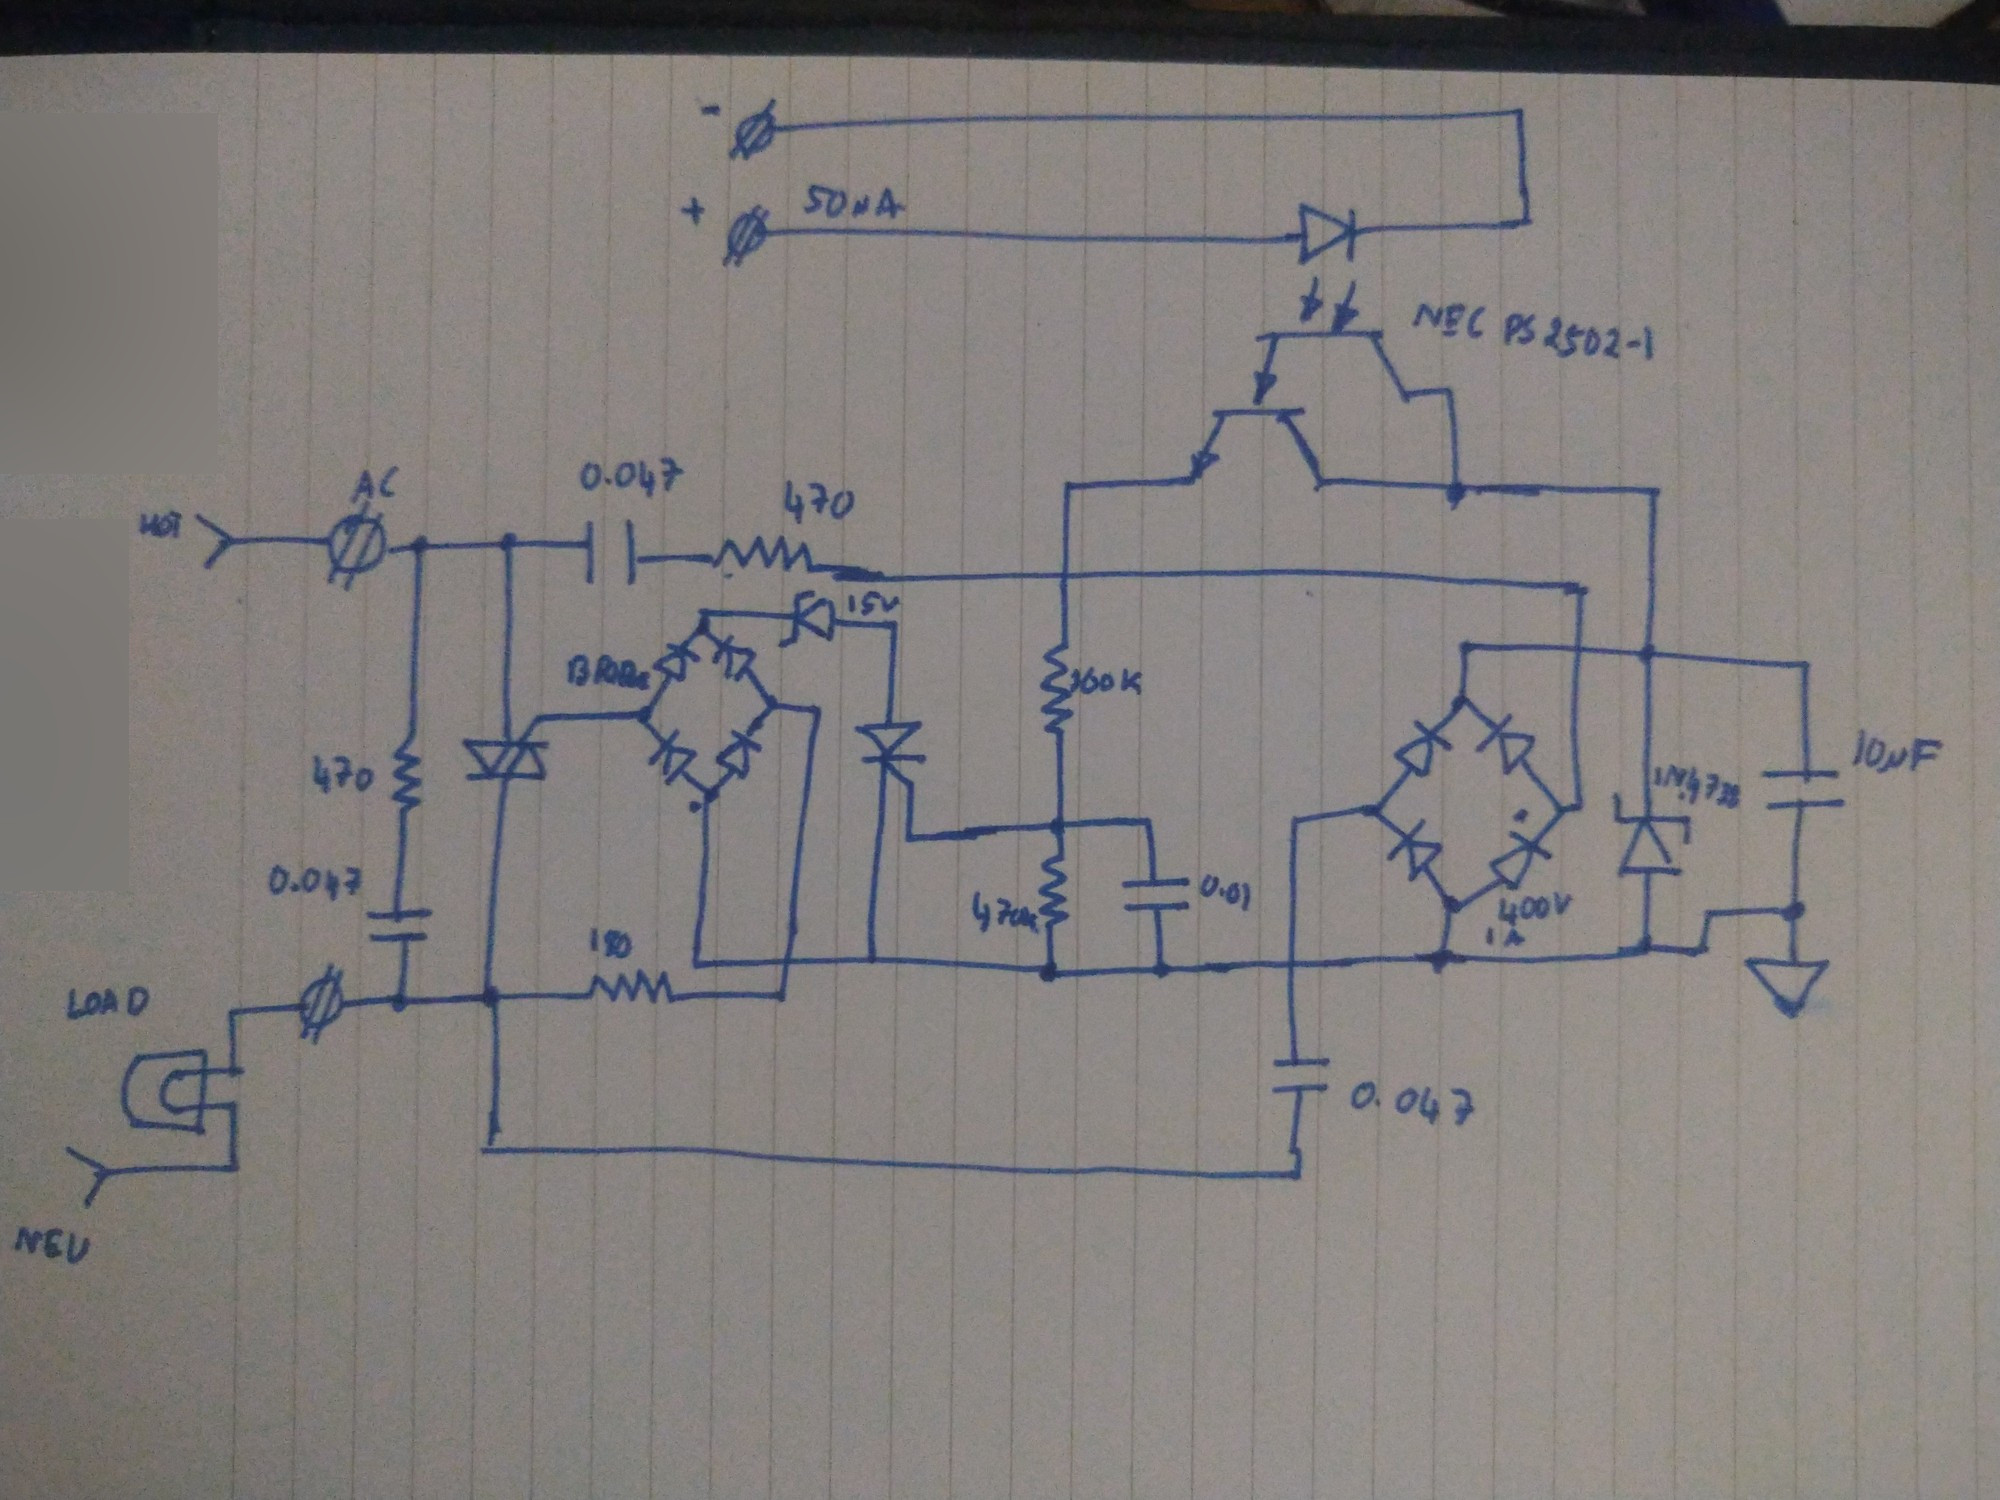capacitor.unpolarized: (1759, 756, 1847, 822), (580, 517, 643, 588), (1120, 871, 1194, 920), (1268, 1048, 1332, 1103), (365, 904, 433, 949)
crossover: (1280, 952, 1302, 974), (776, 952, 798, 971), (1569, 640, 1587, 659), (1057, 566, 1074, 581)
diode: (1609, 791, 1691, 876), (1490, 830, 1553, 890), (1386, 818, 1443, 882), (1476, 714, 1534, 774), (1391, 722, 1452, 778), (780, 591, 836, 646), (649, 730, 698, 786), (717, 730, 761, 778), (710, 635, 754, 681), (650, 641, 701, 681)
gnd: (1742, 953, 1835, 1019)
junction: (1428, 944, 1458, 975), (387, 986, 413, 1015), (476, 983, 504, 1008), (1036, 956, 1061, 985), (1439, 889, 1465, 915), (1444, 477, 1468, 506), (1780, 900, 1805, 923), (1150, 956, 1173, 980), (479, 1136, 501, 1160), (1047, 813, 1069, 837), (1636, 641, 1658, 665), (1287, 1161, 1307, 1186), (1635, 933, 1654, 958), (772, 985, 792, 1007), (861, 949, 882, 971), (499, 533, 520, 555), (1450, 690, 1472, 711), (1365, 797, 1386, 819), (408, 536, 431, 555), (1569, 577, 1587, 600), (224, 1157, 243, 1179), (761, 693, 780, 714), (1691, 941, 1710, 961), (1510, 102, 1531, 121), (1287, 811, 1306, 830), (701, 785, 720, 804), (635, 704, 654, 723), (1517, 211, 1535, 230), (687, 955, 704, 975), (1137, 813, 1157, 830), (224, 1064, 246, 1079), (224, 1097, 241, 1116), (1646, 482, 1663, 501), (1457, 637, 1474, 655), (696, 603, 713, 619), (1702, 904, 1718, 922), (1060, 477, 1077, 493), (693, 622, 710, 638), (1572, 797, 1587, 815), (1551, 800, 1567, 818), (809, 700, 824, 718), (1798, 657, 1813, 673), (1441, 384, 1457, 399), (225, 1005, 239, 1019), (887, 618, 901, 632), (902, 830, 915, 845)
lamp: (117, 1046, 209, 1138)
optocoupler: (1250, 202, 1414, 408)
resistor: (710, 536, 816, 577), (583, 967, 676, 1007), (1039, 640, 1076, 739), (391, 730, 424, 815), (1039, 851, 1071, 930)
terminal: (724, 95, 783, 164), (718, 202, 773, 269), (61, 1145, 113, 1209), (194, 511, 235, 570)
text: (1413, 303, 1657, 362), (1346, 1078, 1477, 1130), (576, 455, 683, 499), (1654, 764, 1742, 811), (1854, 728, 1942, 774), (802, 183, 902, 221), (268, 863, 364, 903), (565, 652, 650, 692), (969, 889, 1039, 936), (13, 1224, 91, 1267), (783, 479, 855, 525), (65, 983, 151, 1019), (309, 753, 376, 796), (1498, 890, 1572, 926), (1069, 666, 1143, 696), (350, 463, 402, 504), (1198, 873, 1250, 912), (135, 509, 183, 542), (587, 926, 635, 960), (847, 589, 899, 618), (1483, 923, 1524, 950)
thyristor: (852, 718, 928, 793)
transistor: (1184, 403, 1332, 495)
triac: (458, 711, 557, 783)
